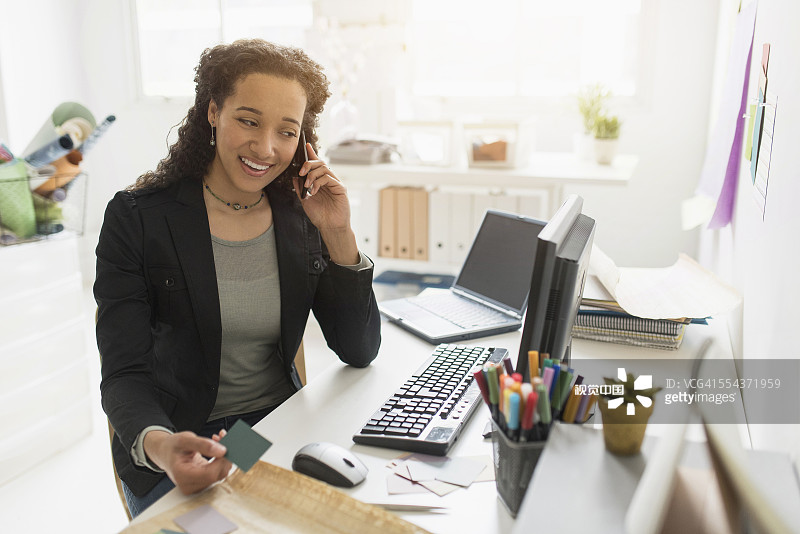calling: (281, 126, 391, 257)
no-phone: (137, 402, 281, 513)
